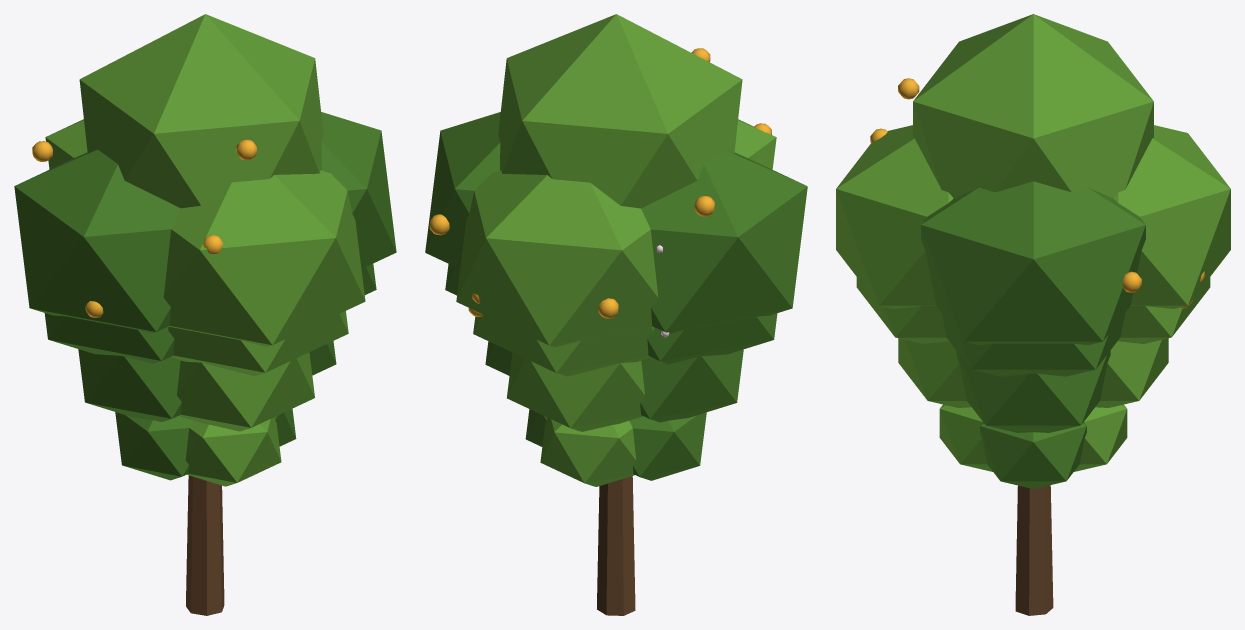
File: Crop_Fruit_Mango.fbx
3 views of the same model, side by side, from view 1: azimuth 30°, elevation 25°; view 2: azimuth 150°, elevation 25°; view 3: azimuth 270°, elevation 25° (orthographic).
Parts seen in each view (by area): view 1: Crop_Fruit_Mango__S4, Crop_Fruit_Mango__S2, Crop_Fruit_Mango__S1, Crop_Fruit_Mango__S3; view 2: Crop_Fruit_Mango__S4, Crop_Fruit_Mango__S2, Crop_Fruit_Mango__S1, Crop_Fruit_Mango__S3; view 3: Crop_Fruit_Mango__S4, Crop_Fruit_Mango__S2, Crop_Fruit_Mango__S1, Crop_Fruit_Mango__S3.
Part boxes in pixels (<box>): Crop_Fruit_Mango__S4: <box>14,14,396,615</box>; Crop_Fruit_Mango__S2: <box>78,341,336,431</box>; Crop_Fruit_Mango__S1: <box>115,408,296,486</box>; Crop_Fruit_Mango__S3: <box>44,264,376,376</box>; Crop_Fruit_Mango__S4: <box>425,14,807,615</box>; Crop_Fruit_Mango__S2: <box>485,341,743,431</box>; Crop_Fruit_Mango__S1: <box>525,409,706,486</box>; Crop_Fruit_Mango__S3: <box>445,245,777,376</box>; Crop_Fruit_Mango__S4: <box>836,14,1230,615</box>; Crop_Fruit_Mango__S2: <box>898,338,1168,432</box>; Crop_Fruit_Mango__S1: <box>939,404,1127,488</box>; Crop_Fruit_Mango__S3: <box>856,277,1210,376</box>.
Size of the model in its own units: 0.6543 by 1.05 by 0.6356.
